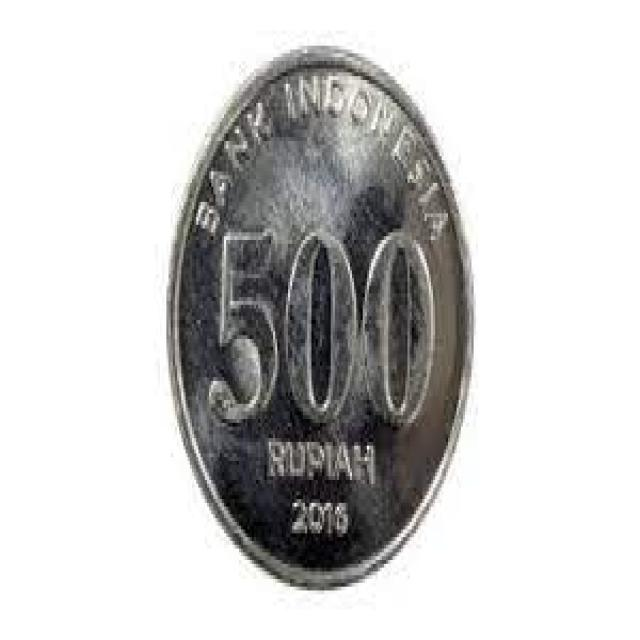500-silver: (160, 38, 489, 606)
